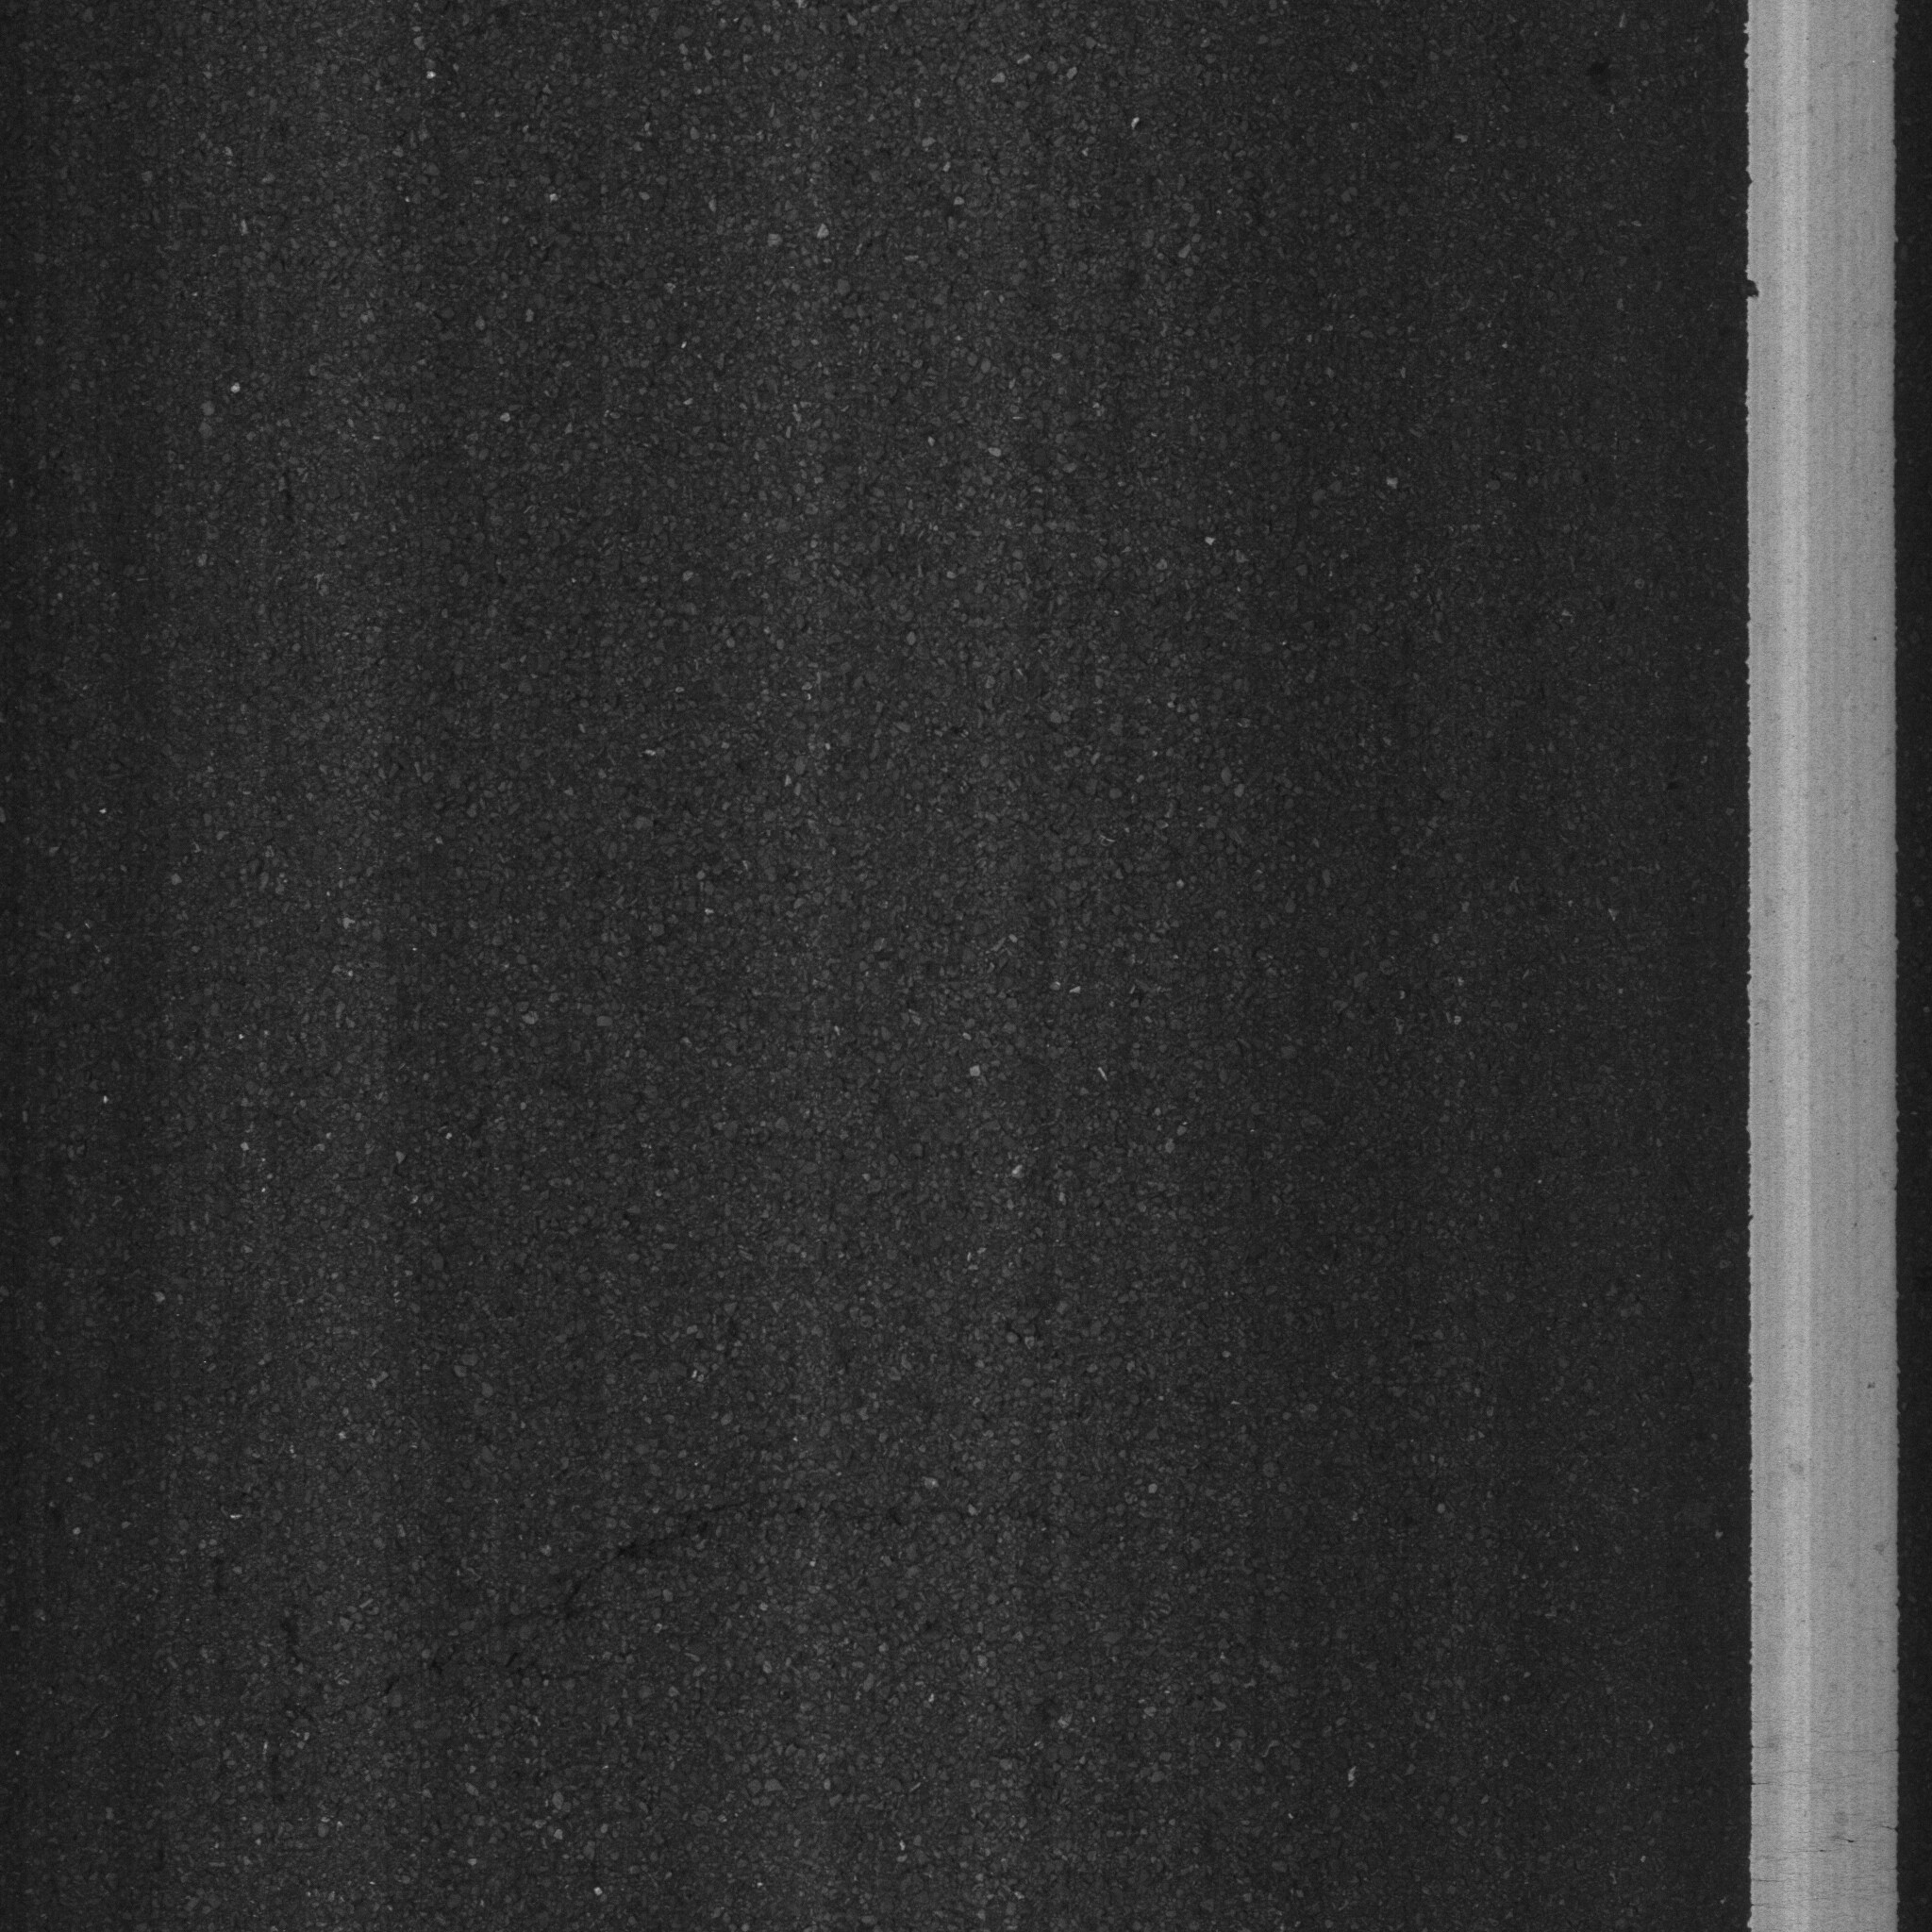transverse: (228, 1433, 1405, 1752)
